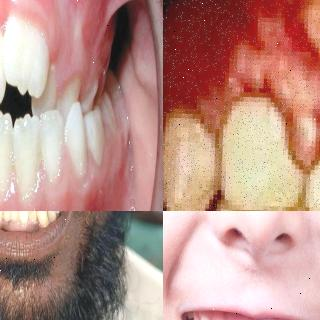Gum Swelling: (173, 15, 320, 172)
maligned: (5, 12, 58, 90), (12, 114, 36, 198), (62, 100, 86, 183), (39, 108, 63, 182), (33, 59, 61, 113), (80, 112, 106, 168), (0, 112, 16, 198), (98, 90, 118, 140), (62, 76, 88, 112), (0, 19, 9, 103), (81, 74, 101, 106), (25, 211, 39, 225), (17, 211, 28, 227), (37, 211, 48, 227), (9, 211, 21, 225), (1, 211, 12, 223), (0, 211, 4, 227)
plaque: (3, 213, 13, 225)
stains: (28, 211, 38, 223), (46, 211, 56, 222)
